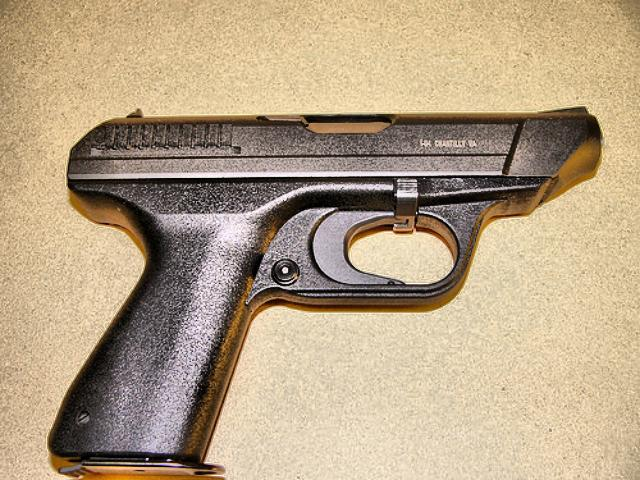pistol: (45, 104, 600, 472)
